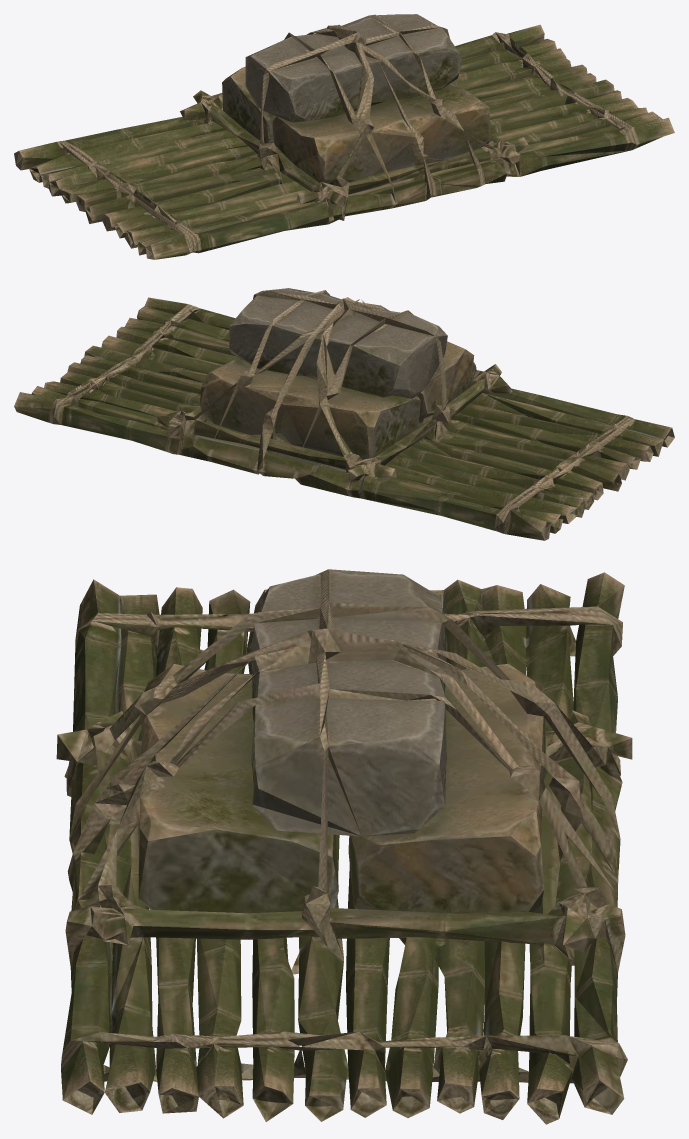
The model's file is stone-raft.glb.
3 views of the same model, one above another, from view 1: azimuth 30°, elevation 25°; view 2: azimuth 150°, elevation 25°; view 3: azimuth 270°, elevation 25° (orthographic). The views are drawn at different scales.
Visible parts, largest first — view 1: output_unwrapped; view 2: output_unwrapped; view 3: output_unwrapped.
Boxes of the visible parts, x1,y1,x2,y2 form: output_unwrapped: (14,14,674,259); output_unwrapped: (14,288,674,540); output_unwrapped: (56,569,632,1124).
Size of the model in its own units: 7 by 1.63 by 3.34.
Materials: 1 (1 with a texture image).
